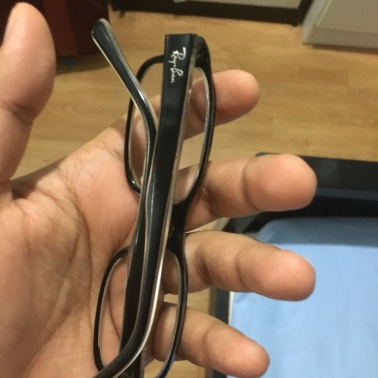glasses: (96, 19, 209, 378)
